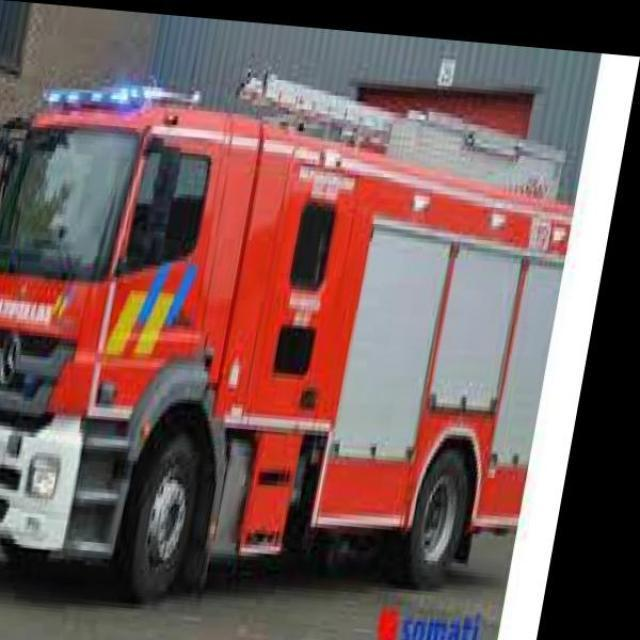emergency: (0, 67, 576, 603)
